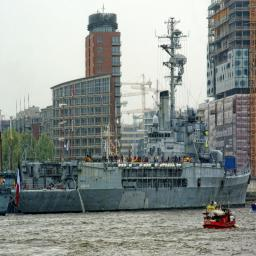Portanaves: (10, 88, 254, 218)
